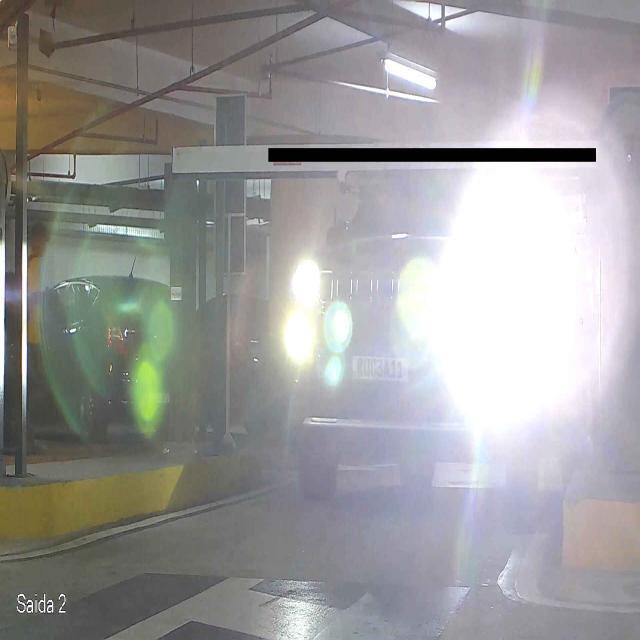mercosul_plate: (348, 346, 410, 384)
